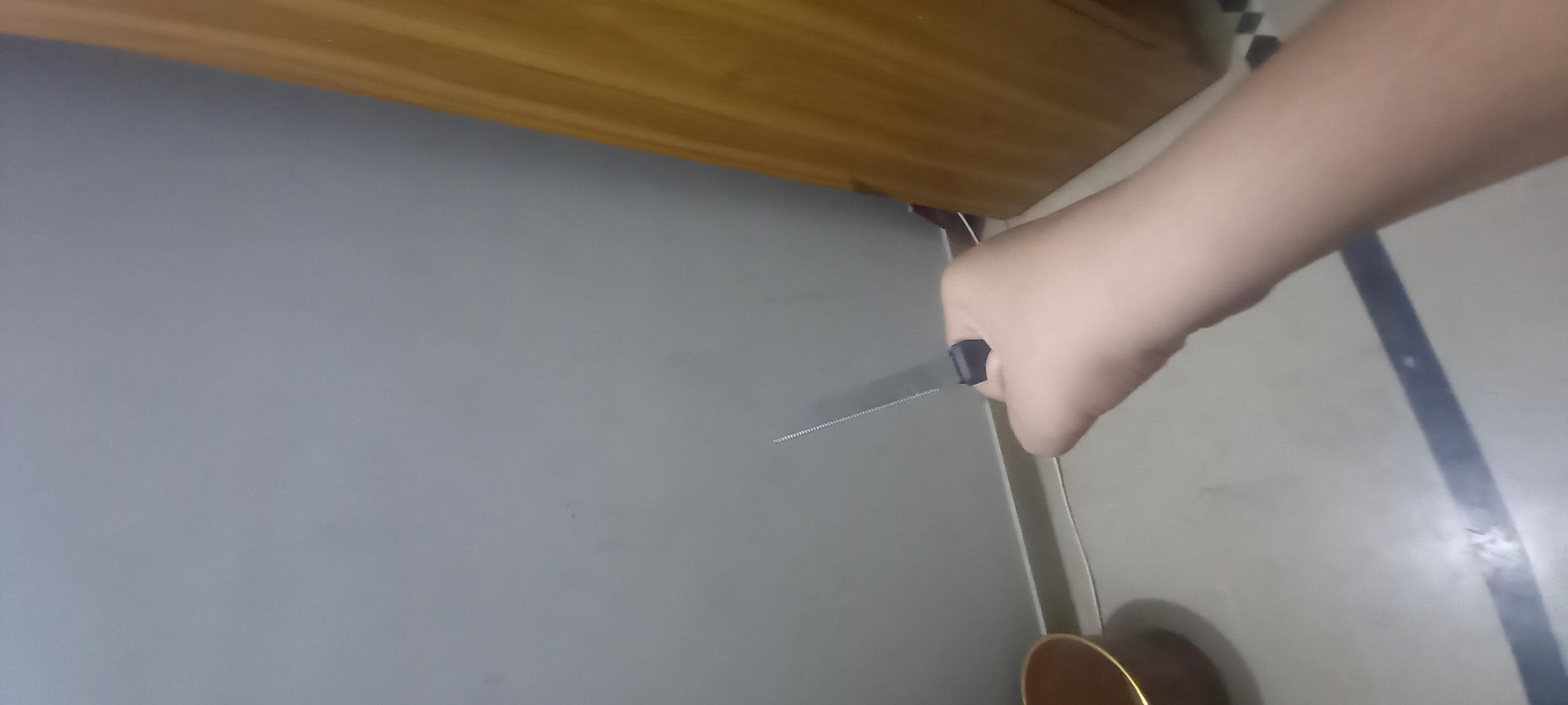knives: (575, 340, 845, 472)
